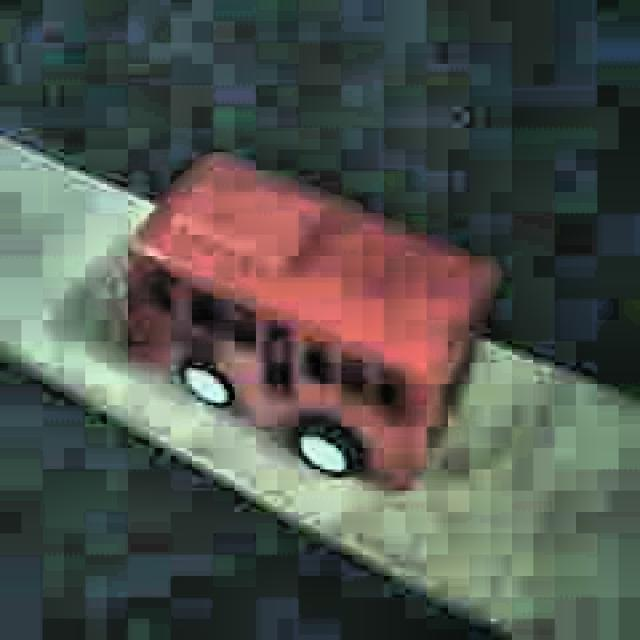bus: (122, 148, 496, 494)
